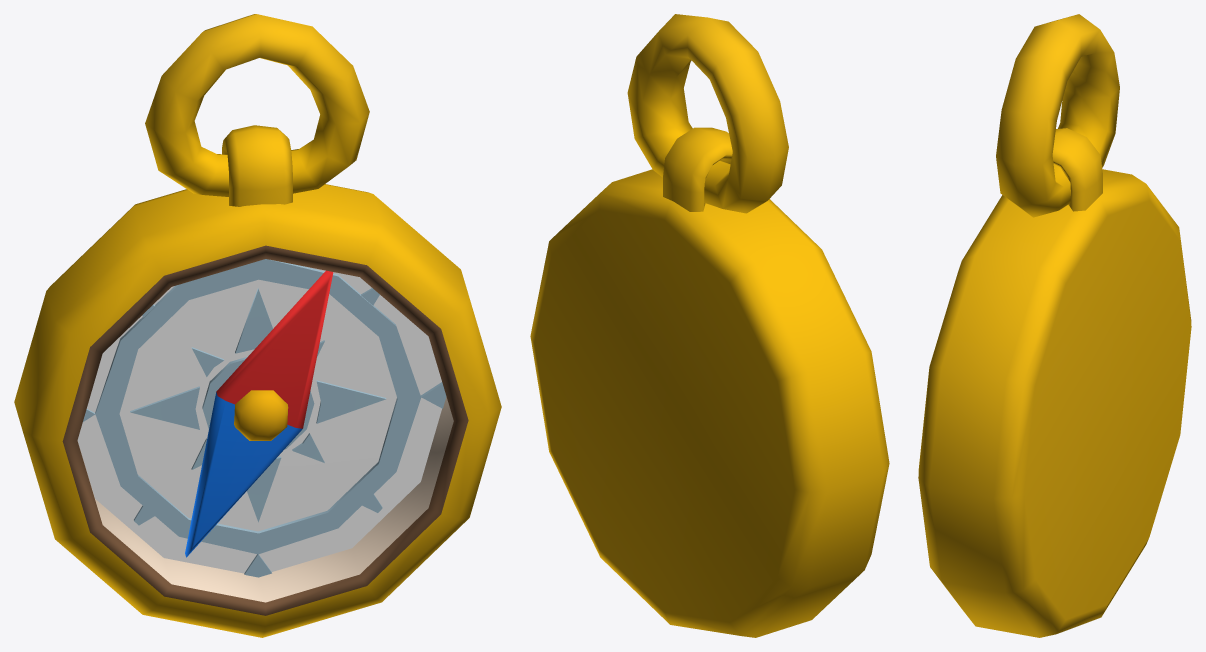
The picture shows the model from 3 angles, left to right: view 1: azimuth 30°, elevation 25°; view 2: azimuth 150°, elevation 25°; view 3: azimuth 270°, elevation 25°; orthographic projection.
Parts seen in each view (by area): view 1: model_1.011; view 2: model_1.011; view 3: model_1.011.
Part boxes in pixels (left/top/right/bottom): model_1.011: left=14, top=14, right=501, bottom=637; model_1.011: left=530, top=14, right=889, bottom=637; model_1.011: left=918, top=14, right=1191, bottom=637.
Bounding box in the file's own units: 3.46 × 4.91 × 2.04.
